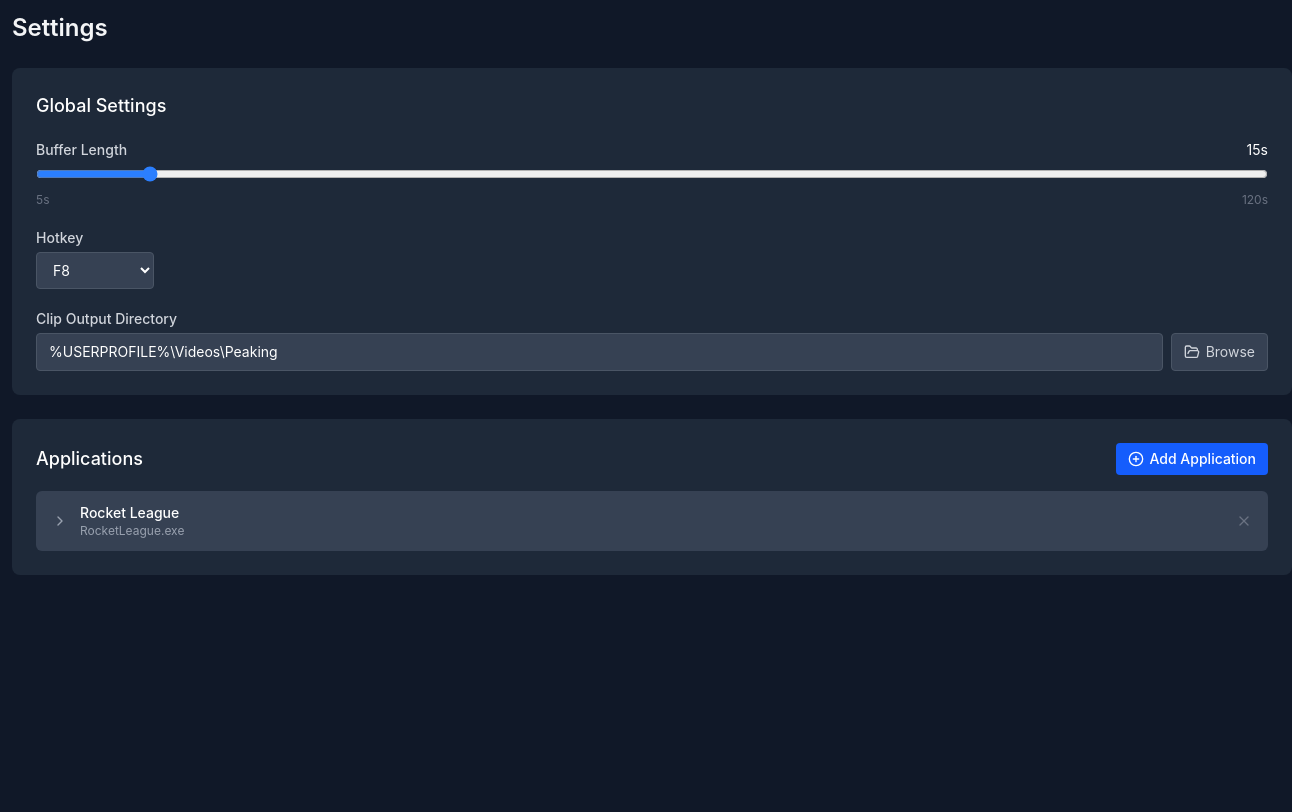
it: Settings › removes app and writes config when remove button is clicked
Expected: the text "Rocket League" is shown, [80,504,179,521]
Click the button named "Remove application".
click(1244, 521)  # box [1236,513,1252,529]
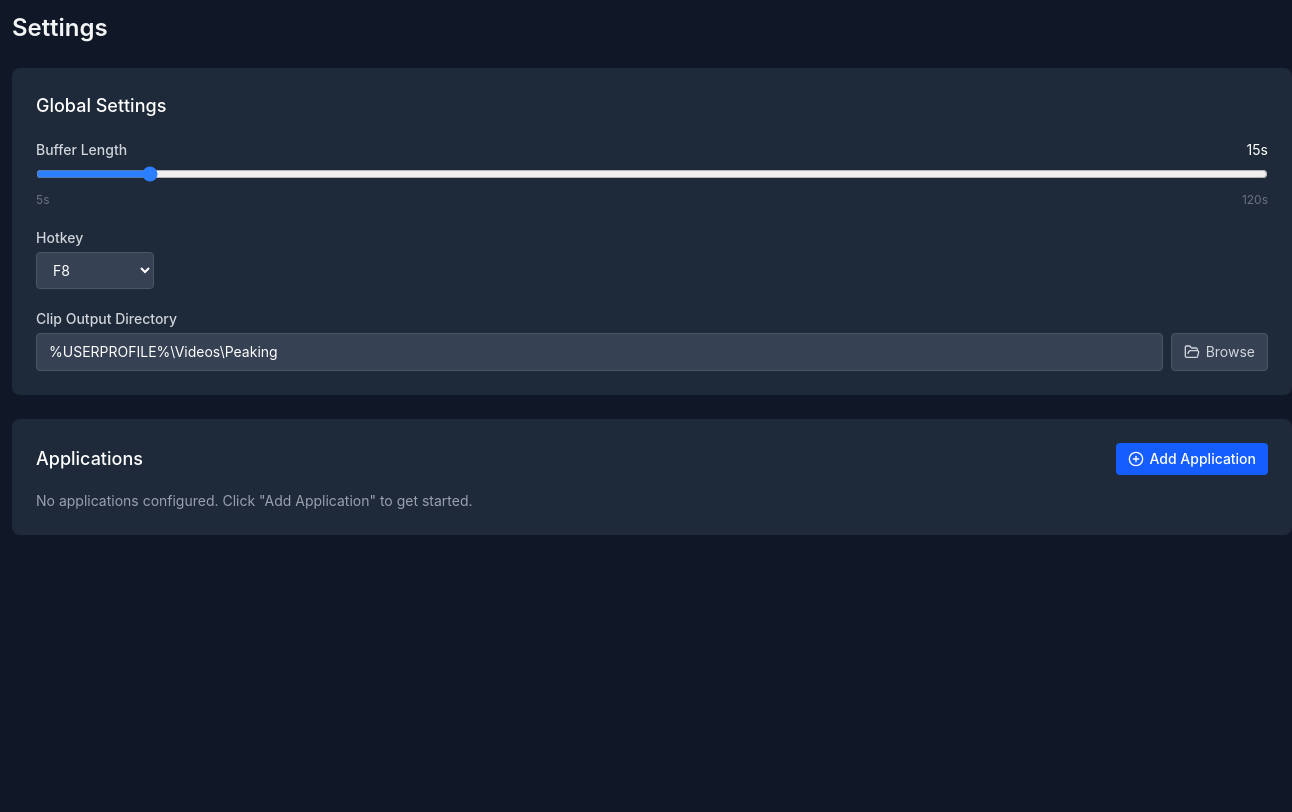
Now the text "Rocket League" is gone
